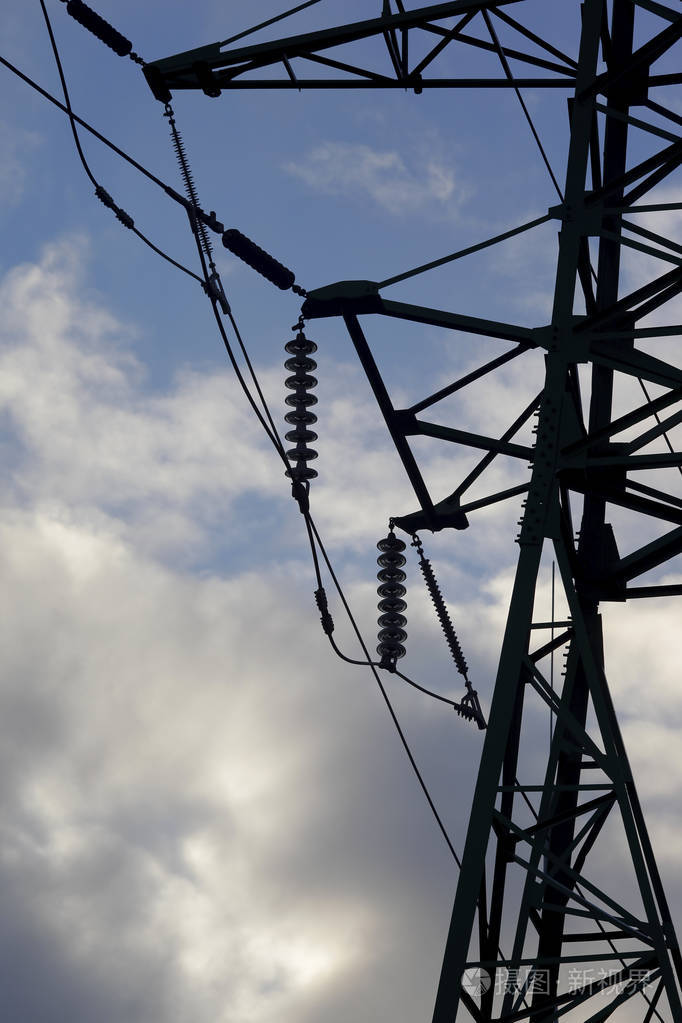insulator: (278, 335, 325, 484), (375, 537, 409, 663)
